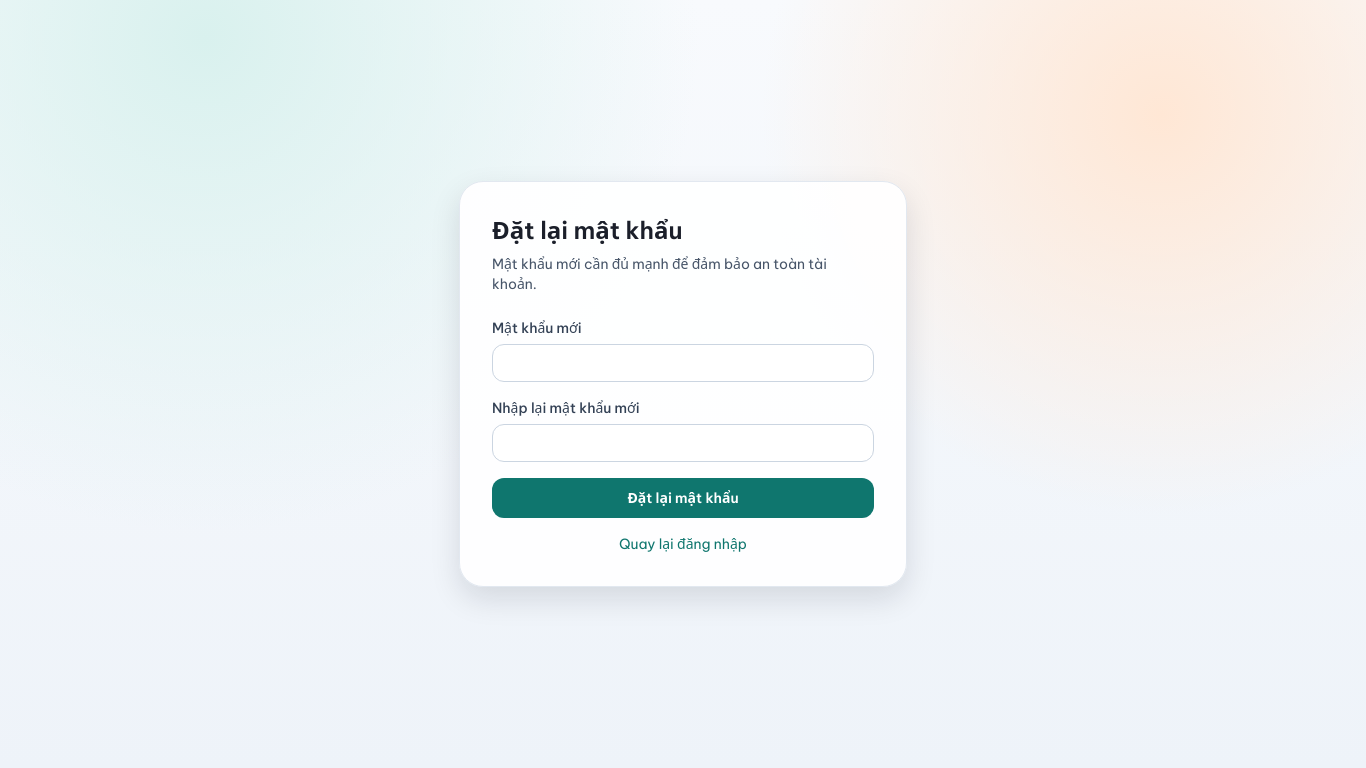
ResetPasswordPage › shows error when token missing
Type "newpass" into the password field labelled "Mật khẩu mới".
click(683, 363); type("newpass")  # box top-left (492, 344), bottom-right (874, 382)
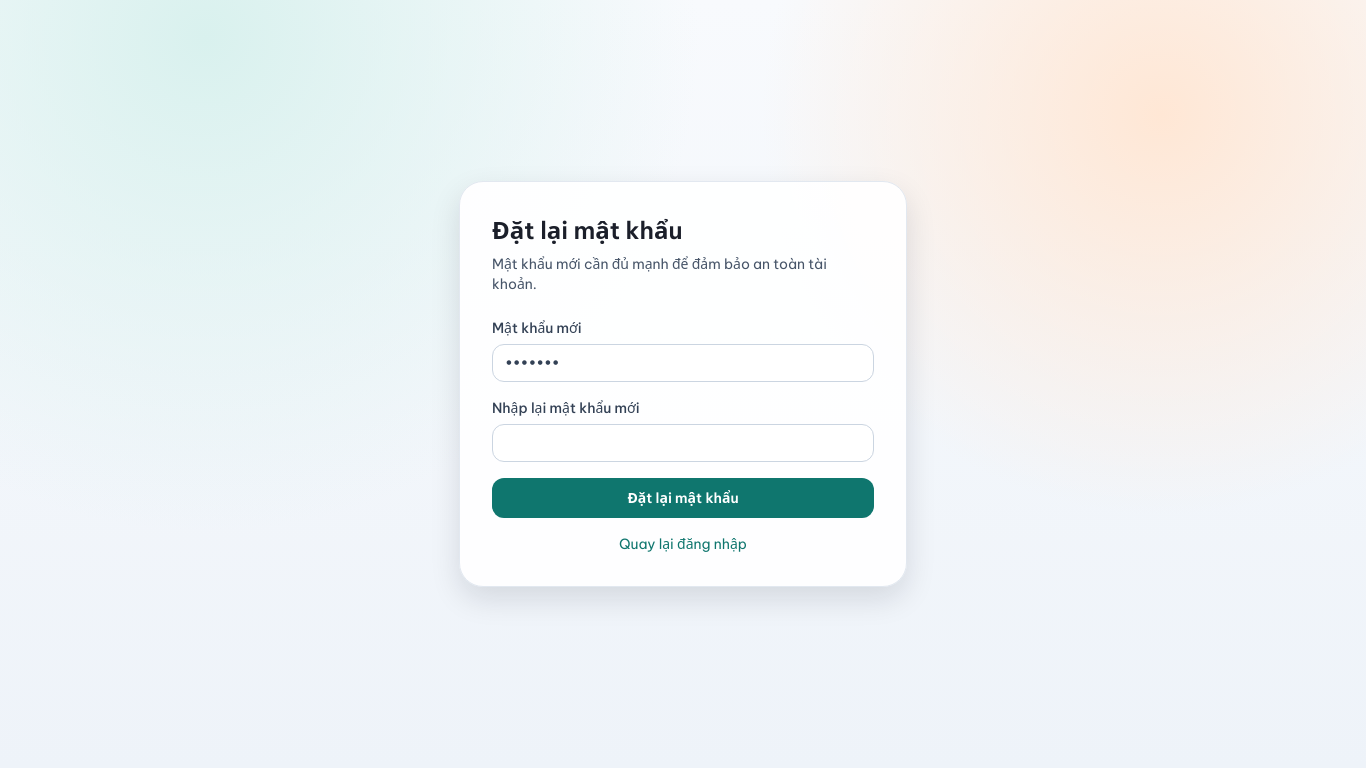
Type "newpass" into the password field labelled "Nhập lại mật khẩu mới".
click(683, 443); type("newpass")  # box top-left (492, 424), bottom-right (874, 462)
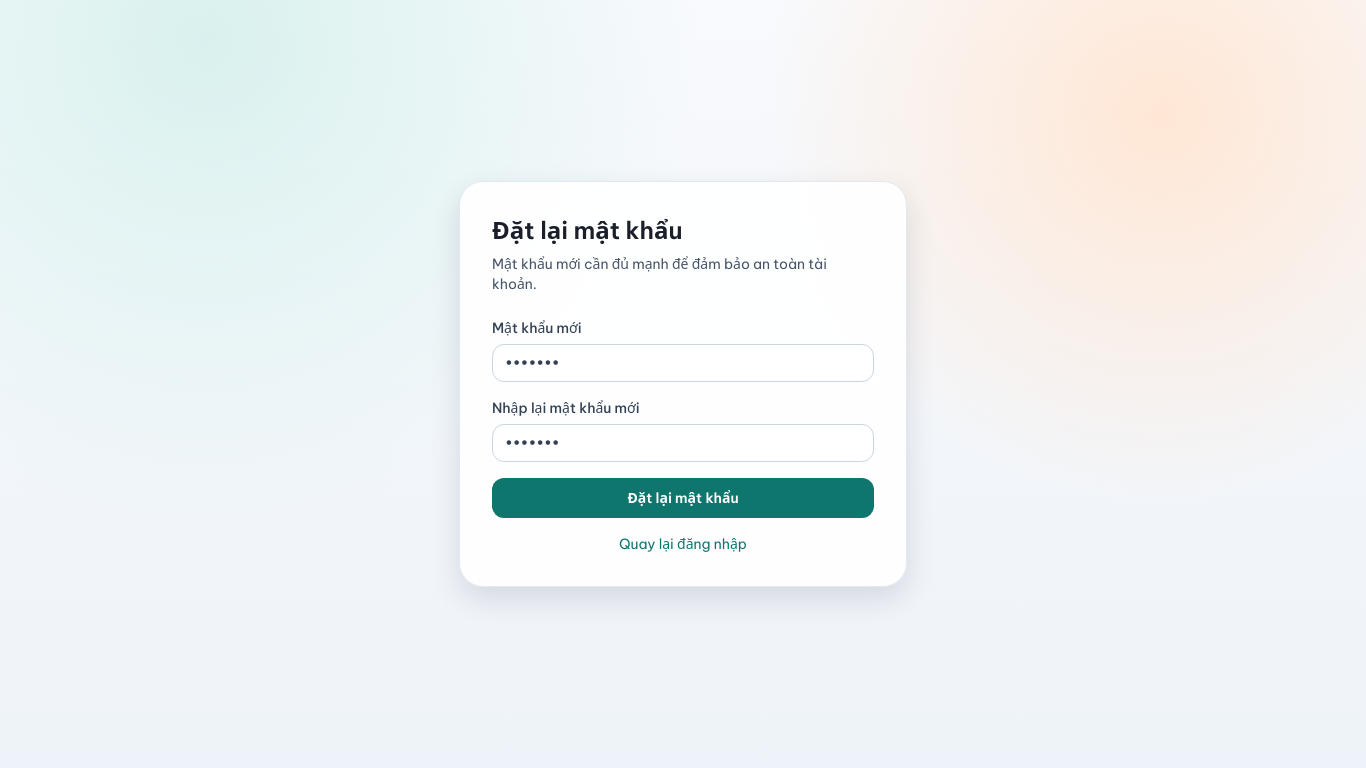
Click the button "Đặt lại mật khẩu".
click(683, 498)  # box top-left (492, 478), bottom-right (874, 518)
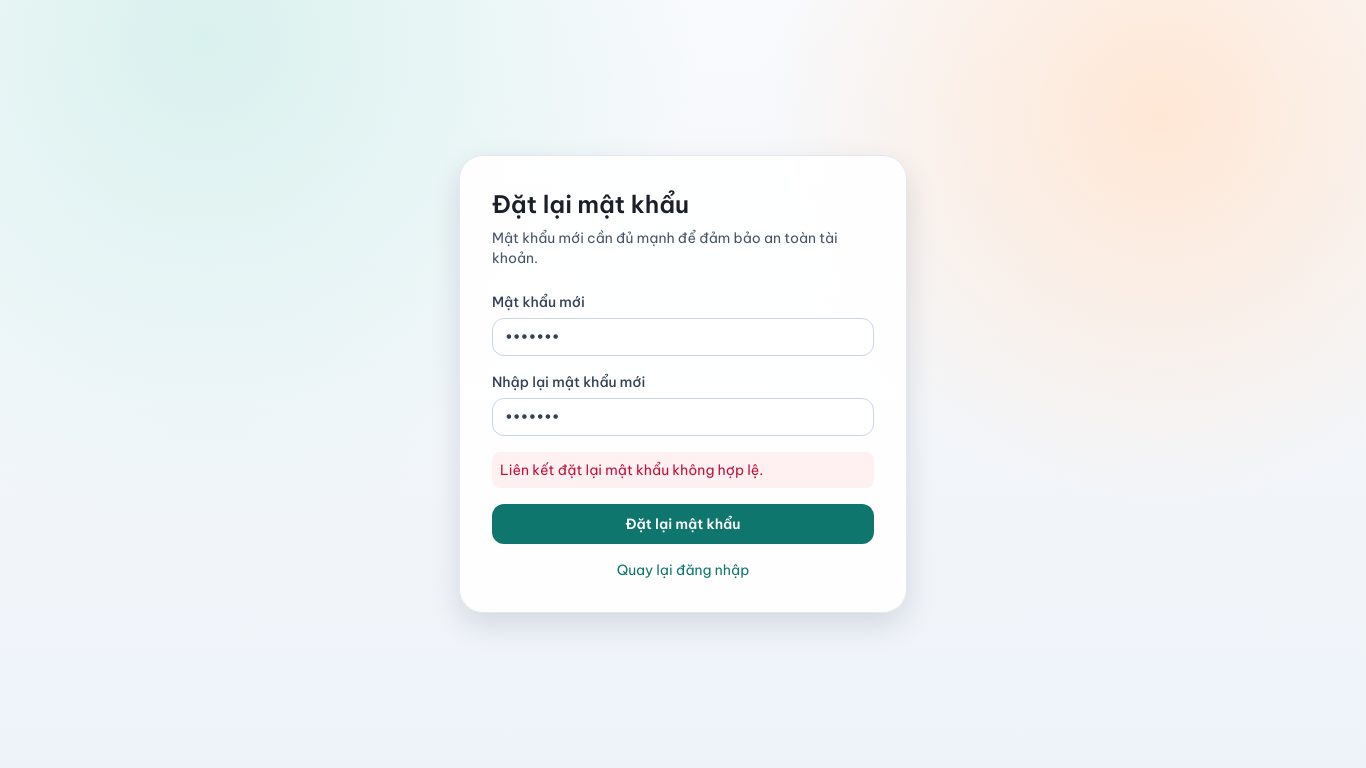
Expected: the text "Liên kết đặt lại mật khẩu không hợp lệ." is shown, top-left (492, 452), bottom-right (874, 488)
